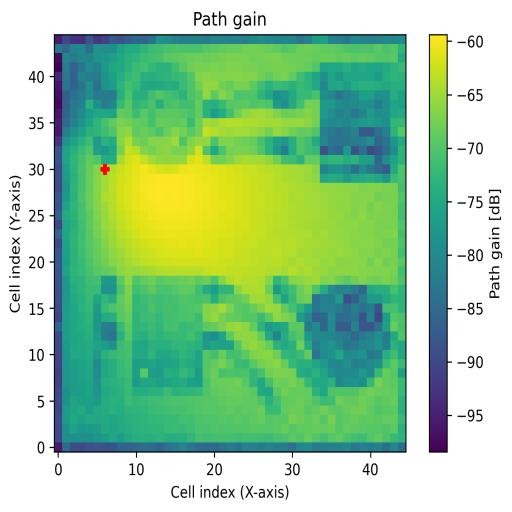Concrete: (321, 62, 398, 181)
Glass: (94, 48, 202, 164)
Metal: (297, 283, 391, 388)
Wood: (132, 274, 211, 398)
